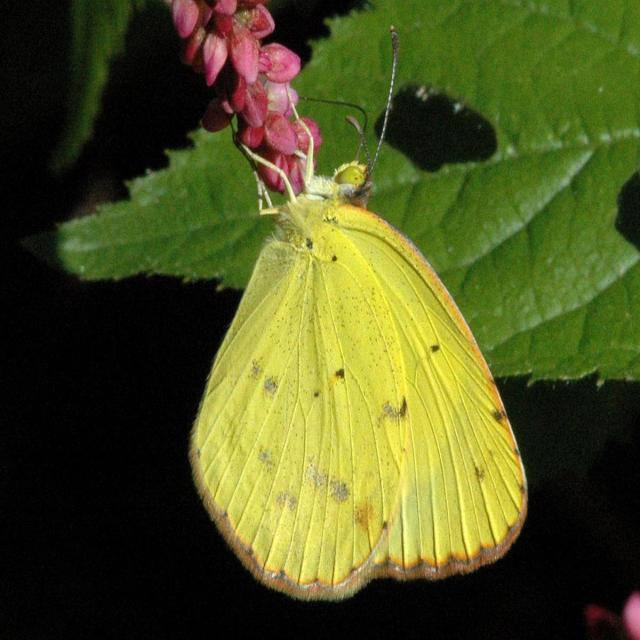other: (199, 193, 533, 591)
